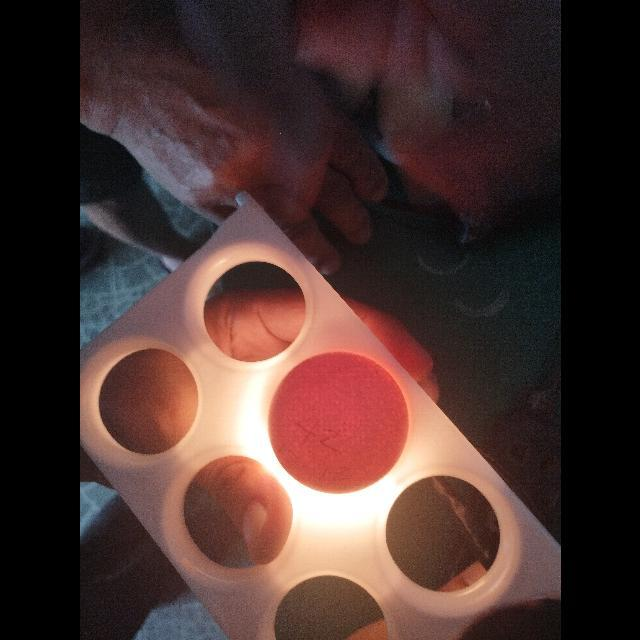Infertile: (266, 351, 410, 495)
